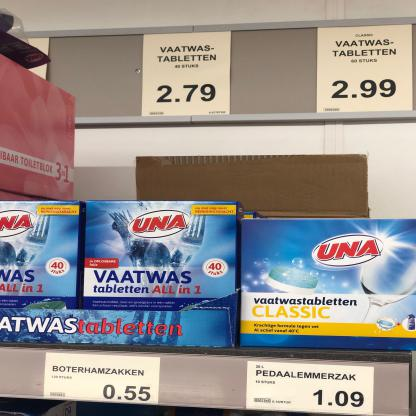prtg: (318, 25, 415, 114), (142, 32, 232, 117), (247, 363, 375, 416), (44, 354, 161, 405)
